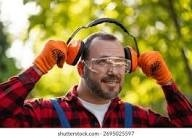safety_goggles: (80, 56, 136, 74)
